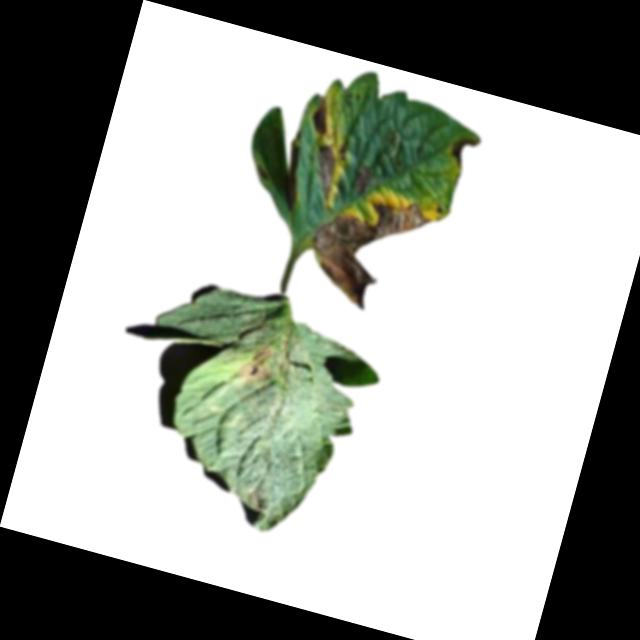Early_blight: (303, 180, 436, 323), (305, 142, 343, 200), (234, 339, 274, 384), (446, 130, 480, 167), (307, 93, 335, 136), (351, 156, 377, 195)
